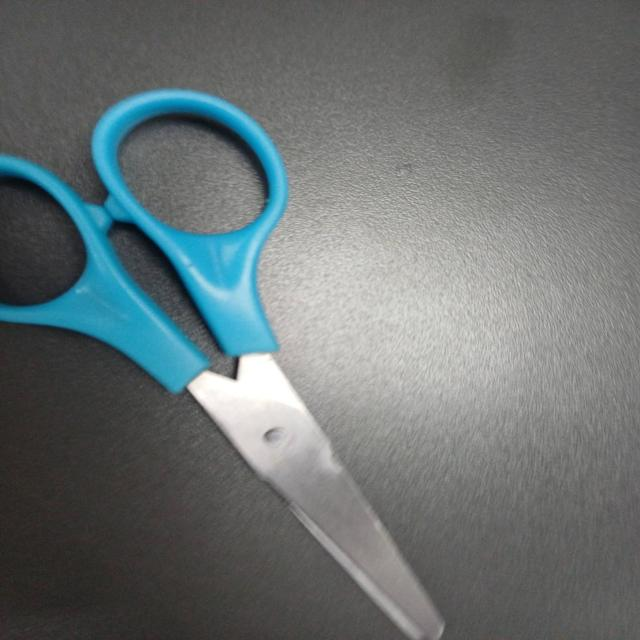scissors: (0, 86, 451, 640)
